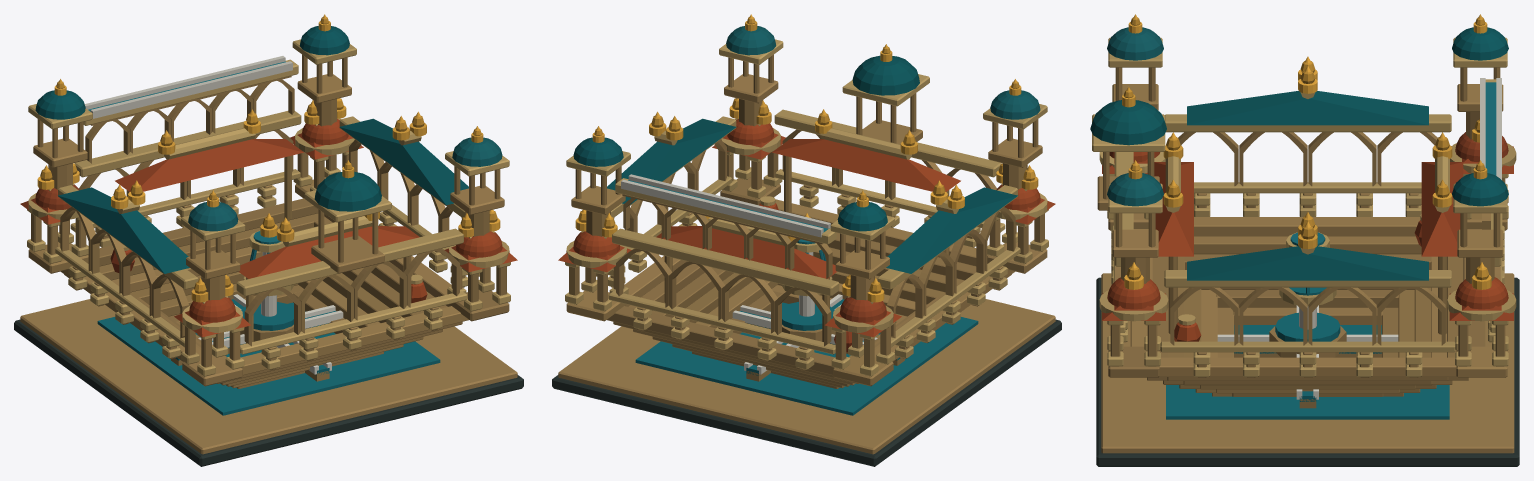
3 views of the same model, side by side, from view 1: azimuth 30°, elevation 25°; view 2: azimuth 150°, elevation 25°; view 3: azimuth 270°, elevation 25° (orthographic). The views are drawn at different scales.
Visible parts, largest first — view 1: stepwell_level14_structure, stepwell_level14_metal; view 2: stepwell_level14_structure, stepwell_level14_metal; view 3: stepwell_level14_structure, stepwell_level14_metal.
Boxes of the visible parts, x1,y1,x2,y2 form: stepwell_level14_structure: (14,17,523,466); stepwell_level14_metal: (37,14,500,302); stepwell_level14_structure: (552,17,1061,466); stepwell_level14_metal: (575,14,1038,302); stepwell_level14_structure: (1090,17,1519,466); stepwell_level14_metal: (1122,14,1491,289).
Bounding box in the file's own units: 5.6 × 4.26 × 5.68.
